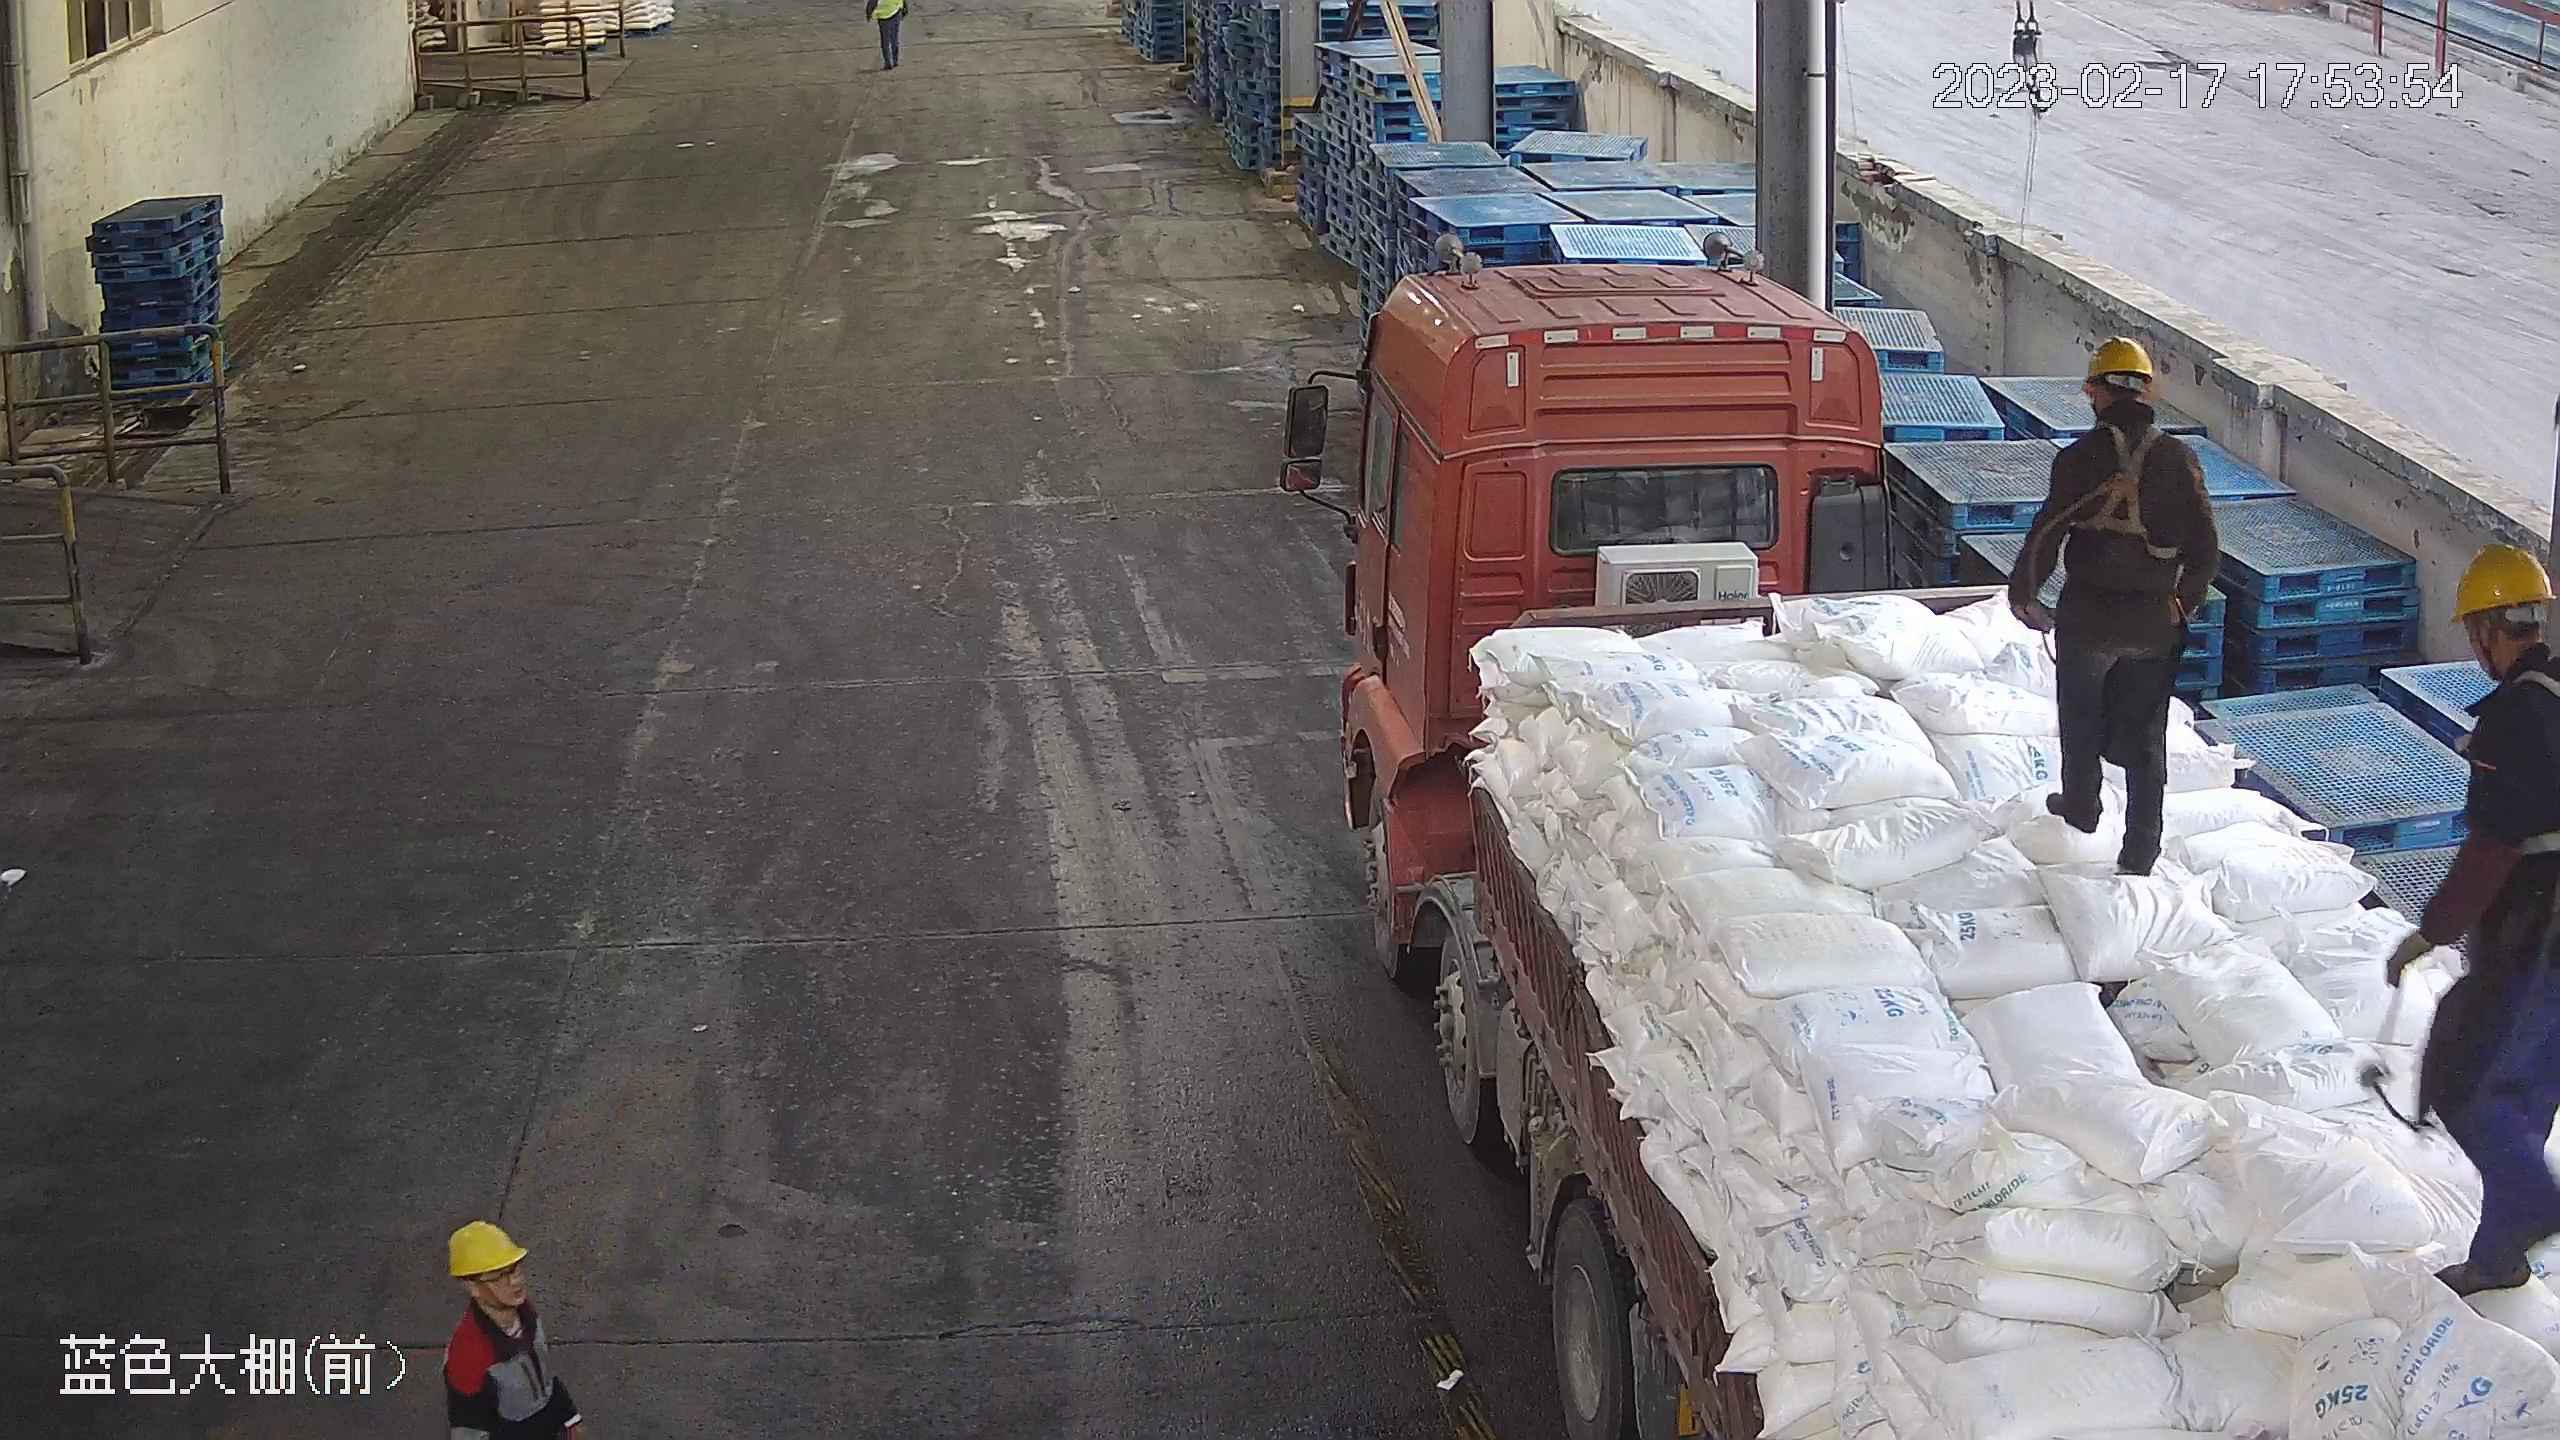belt: (2062, 421, 2189, 554), (2497, 665, 2560, 852)
head: (2433, 541, 2560, 756), (441, 1216, 572, 1398), (2054, 333, 2198, 479)
helmet: (2444, 541, 2558, 618), (446, 1218, 531, 1278), (2078, 332, 2159, 387)
people: (2384, 543, 2559, 1298), (2008, 333, 2218, 878)
truck: (1281, 233, 2559, 1440)
